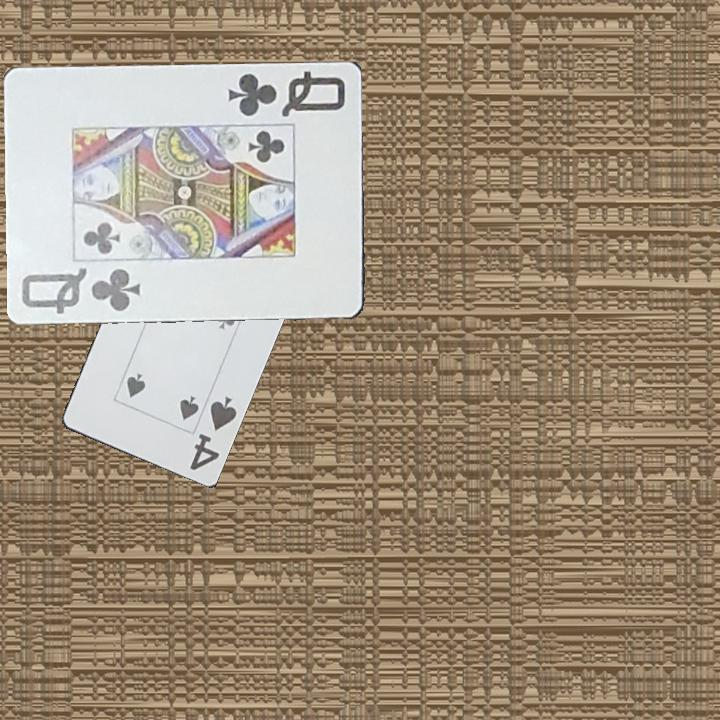4s: (186, 394, 240, 474)
Qc: (225, 66, 349, 120), (18, 264, 144, 316)
